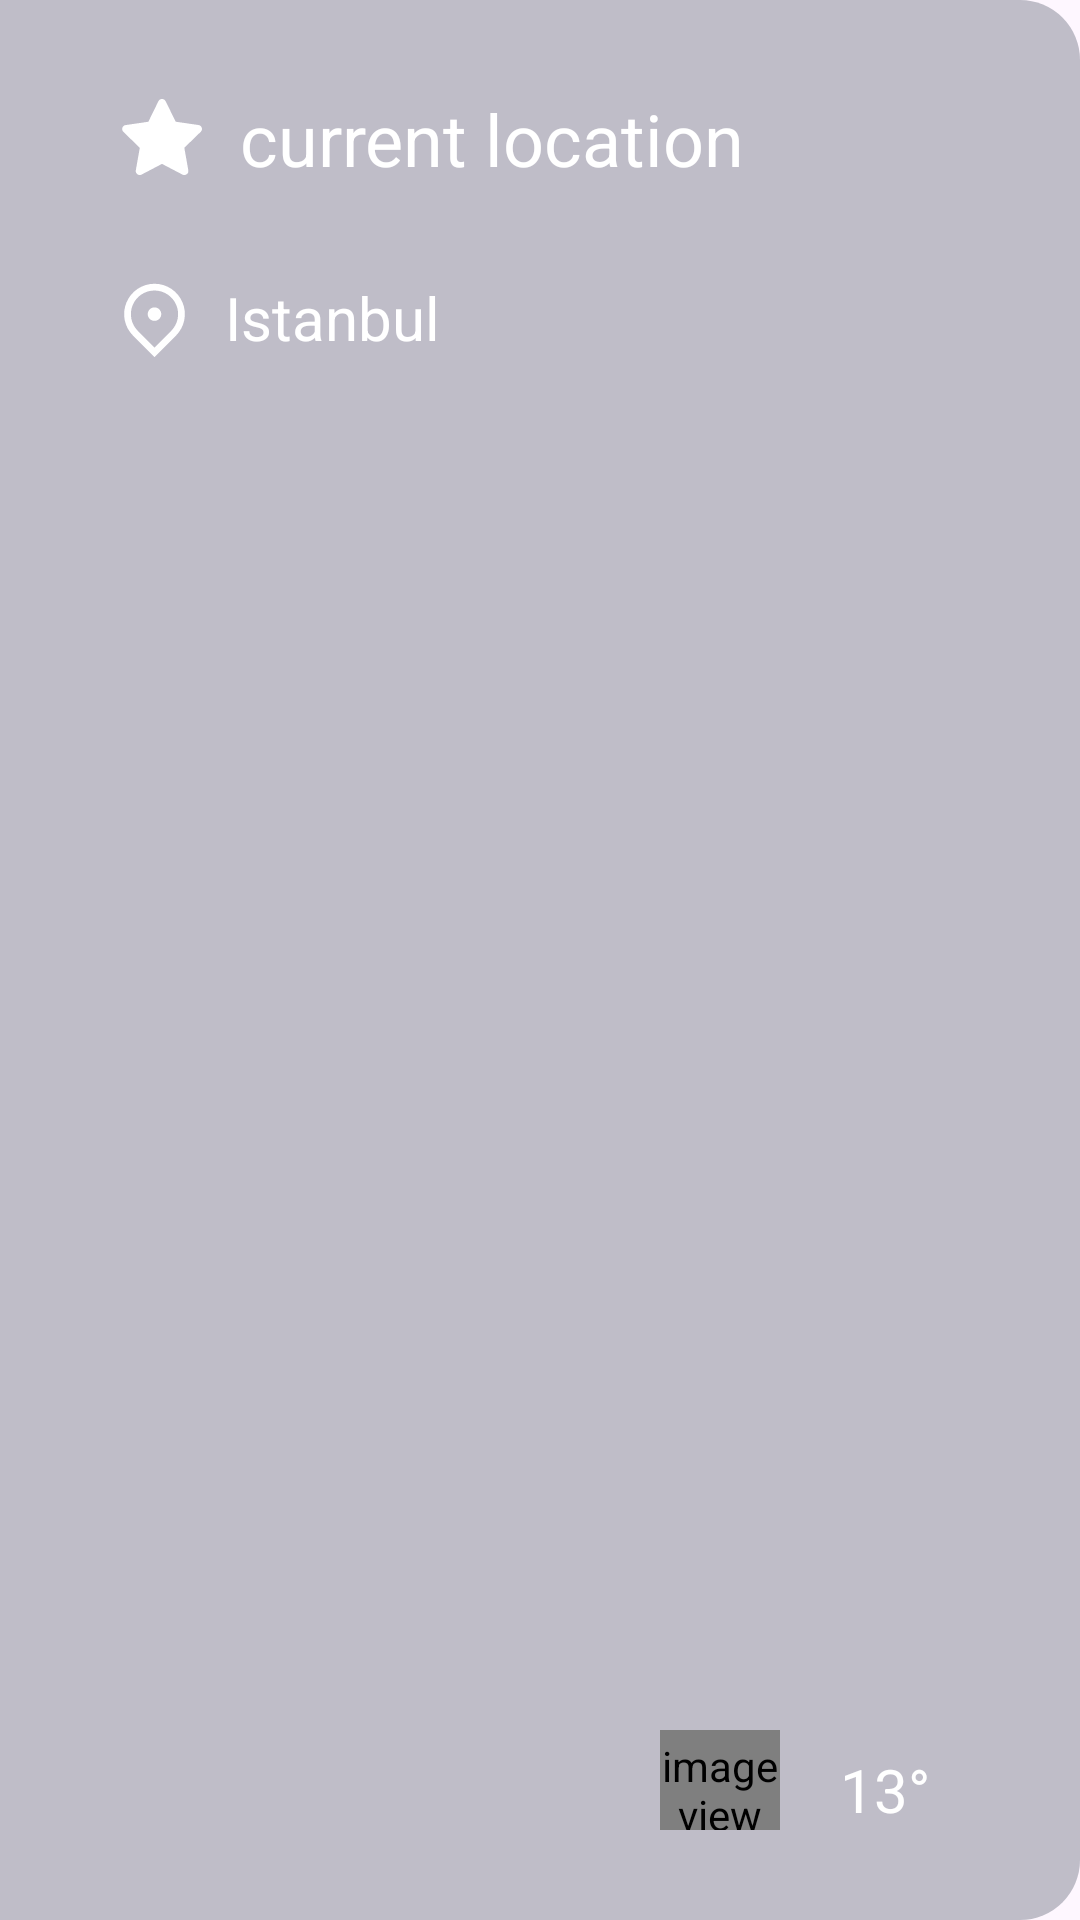

Named icons in this screenshot (1080×1920) and their centers, (x=x, y=y):
star: (x=162, y=137)
